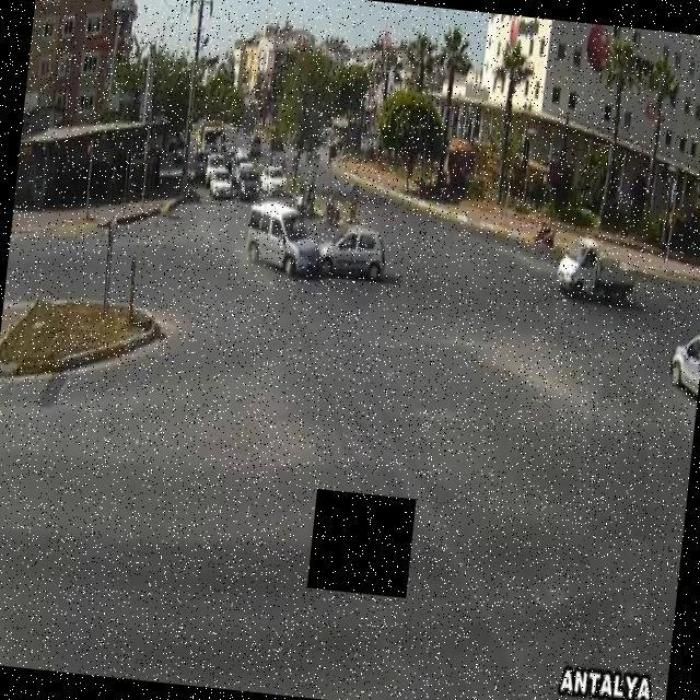Accident: (240, 190, 394, 289)
